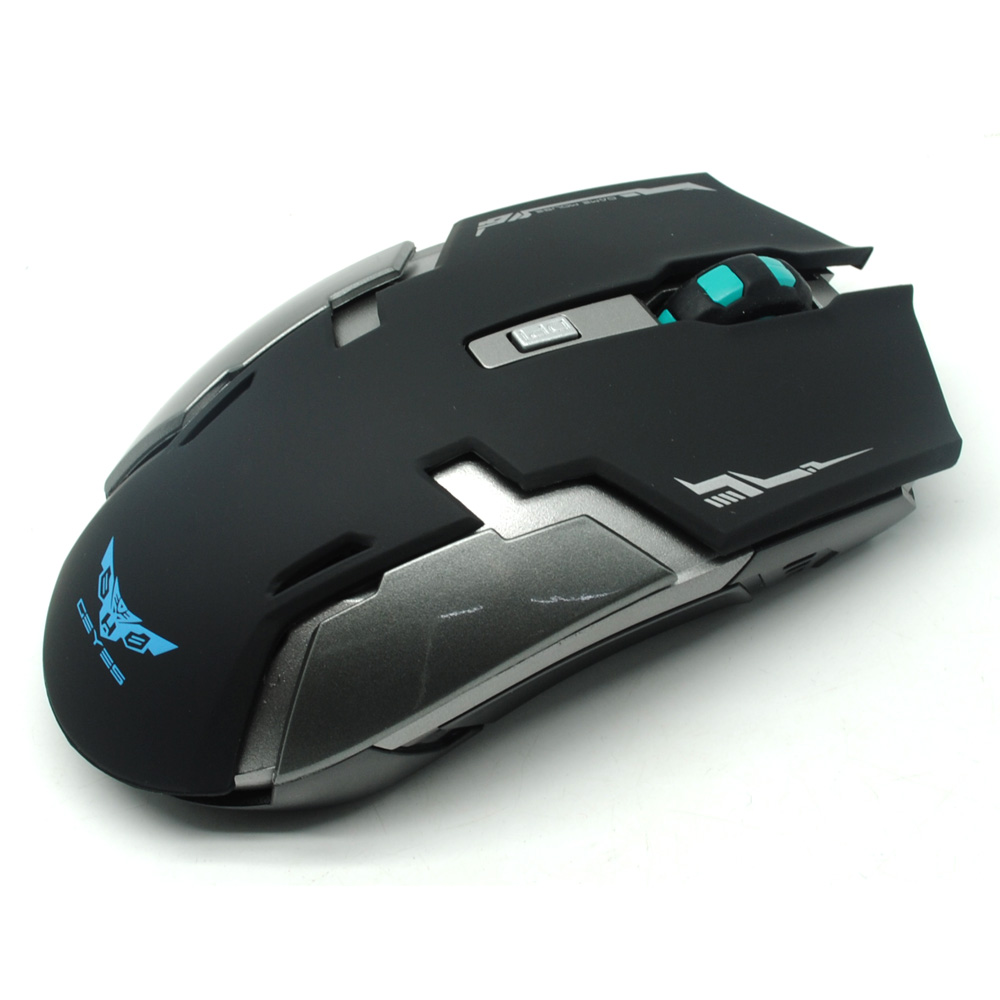Mouse: (38, 161, 971, 845)
